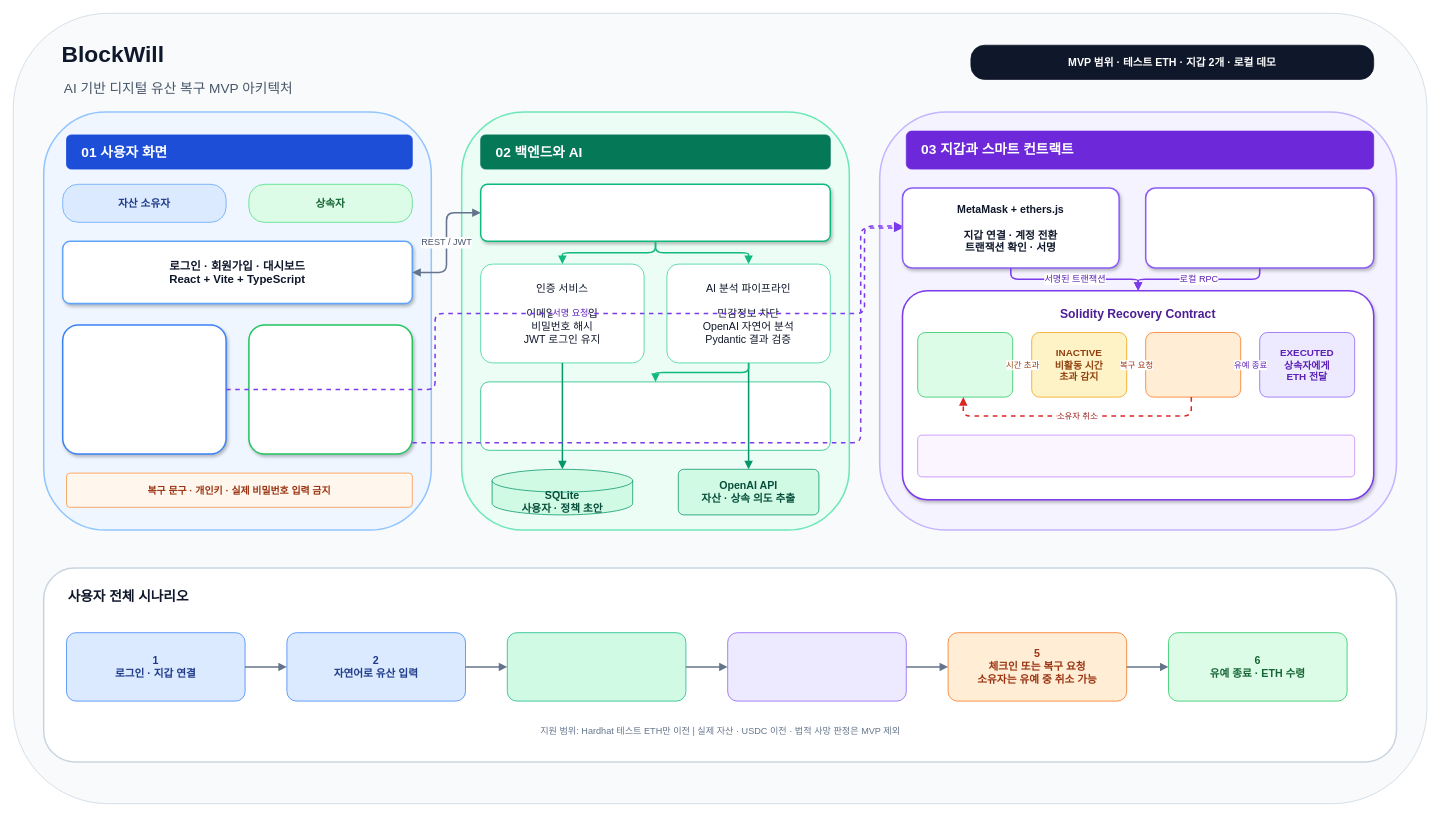
Some shapes in this 1440 by 817 pixel diagram are drawn without their labels. The shapes that lost their labels are listed below. From the top down, each one's centre as x and y in pixels, then its label:
pixel 656 213: FastAPI REST API 요청 검증 · 오류 처리 · CORS
pixel 1260 229: Hardhat Local RPC 127.0.0.1:8545 Chain ID 31337 · 테스트 ETH
pixel 965 364: ACTIVE ETH 예치 체크인 대기
pixel 1193 364: RECOVERY PENDING 유예기간
pixel 145 390: 내 디지털 자산 정리 자연어 유산 입력 AI 분석 결과 검토 누락된 상속자 보완 정책 확정 · 체크인 · 취소
pixel 331 390: 상속받기 복구 가능 자산 확인 복구 요청 유예기간 확인 최종 자산 수령
pixel 655 415: 정책 API AI 초안 → 사용자 수정 → 최종 확인 온체인 등록에 필요한 값만 반환
pixel 1136 455: 자산은 등록 시 계약에 예치되고, 집행 시 계약 잔액이 상속자에게 전달됩니다.
pixel 596 666: 3 AI 정리 · 사용자 보완
pixel 816 666: 4 ETH 예치 · 플랜 등록
